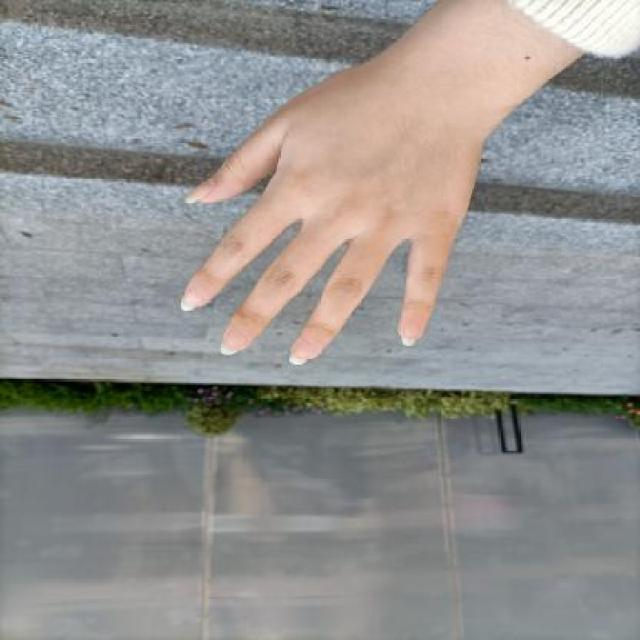bare_hand: (152, 47, 520, 384)
